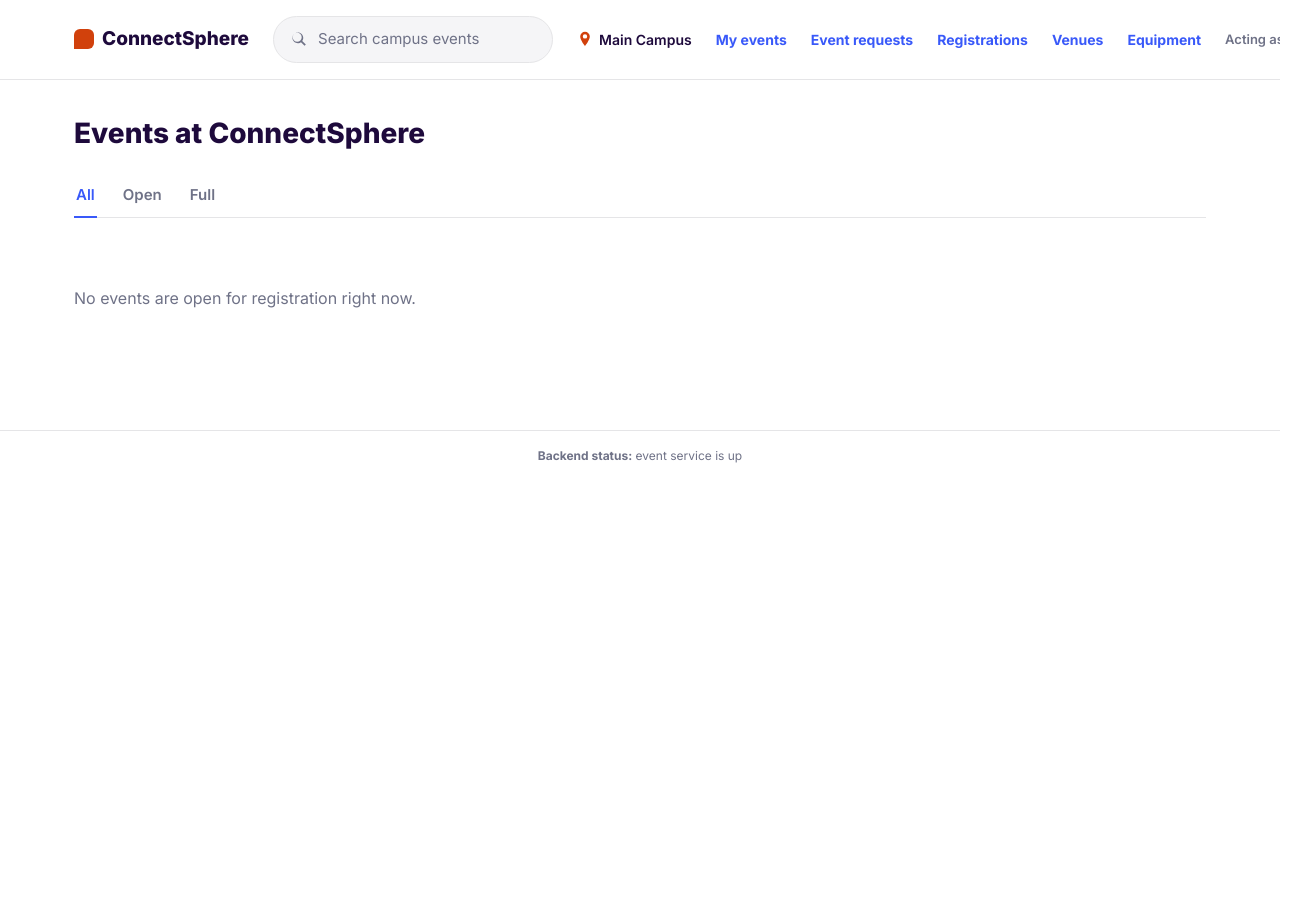
venue calendar (US21) › TC-US21-16: is on Venues for the coordinator role (AC 5, D56)
Click the button "Venues".
click(1078, 39)  # box [1052,29,1104,50]
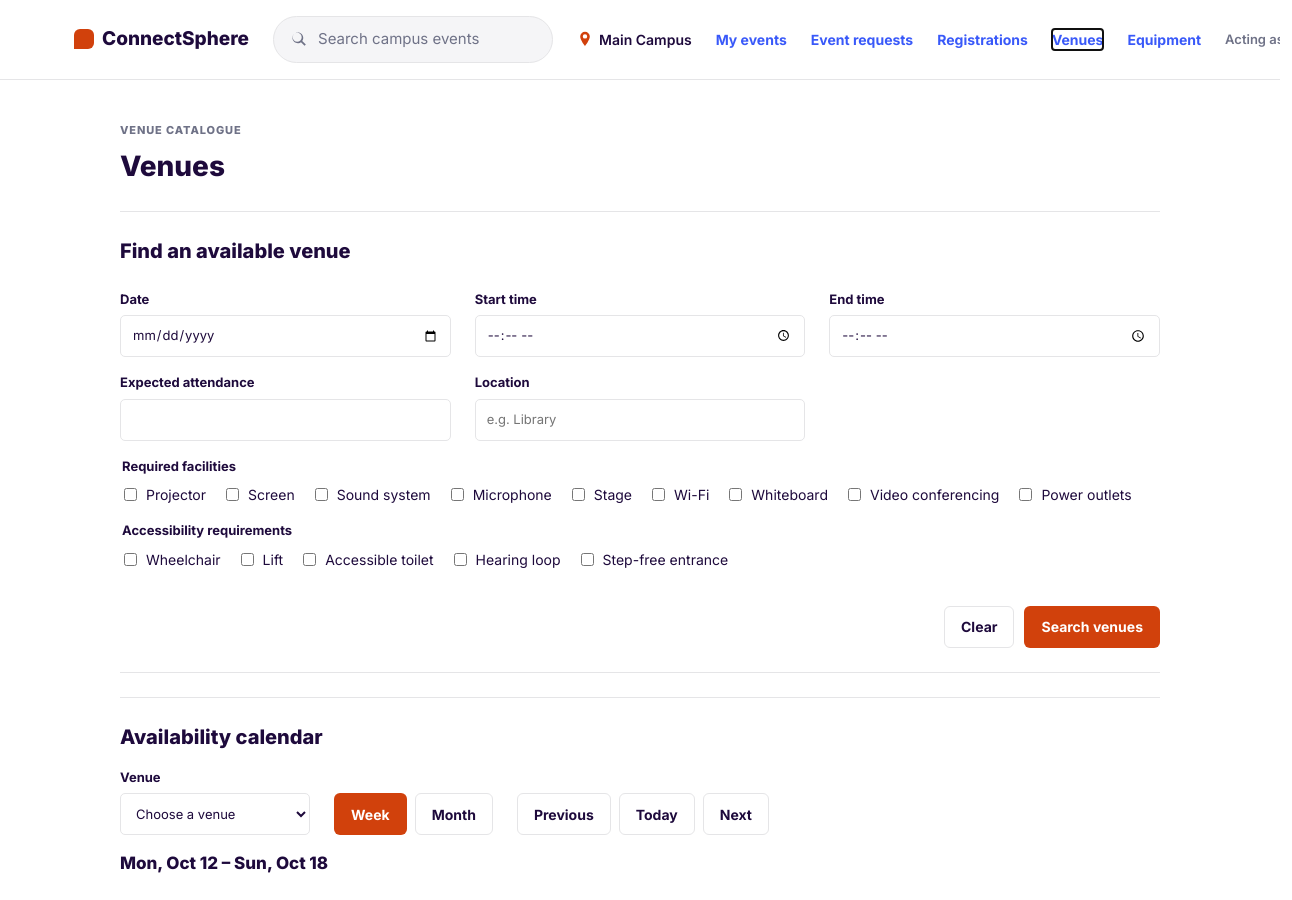
Check: the heading "Venues" is shown, box [120,144,242,186]
Check: the heading "Availability calendar" is shown, box [120,724,323,748]
